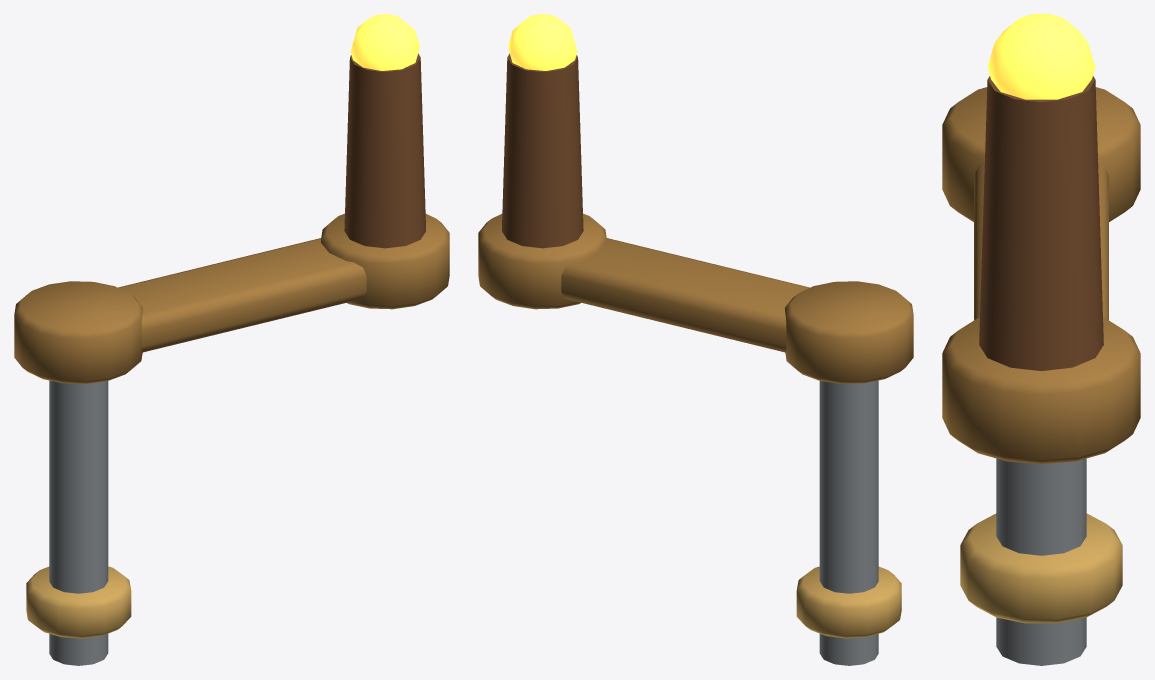
Rendered from part_crank.glb.
3 renders of one model, left to right at view 1: azimuth 30°, elevation 25°; view 2: azimuth 150°, elevation 25°; view 3: azimuth 270°, elevation 25°, orthographic. The views are drawn at different scales.
Parts seen in each view (by area): view 1: part_crank; view 2: part_crank; view 3: part_crank.
Part boxes in pixels (bbox=[...]): part_crank: bbox=[14, 14, 449, 665]; part_crank: bbox=[478, 14, 913, 665]; part_crank: bbox=[942, 14, 1140, 665].
Bounding box in the file's own units: 0.164 × 0.21 × 0.044.
